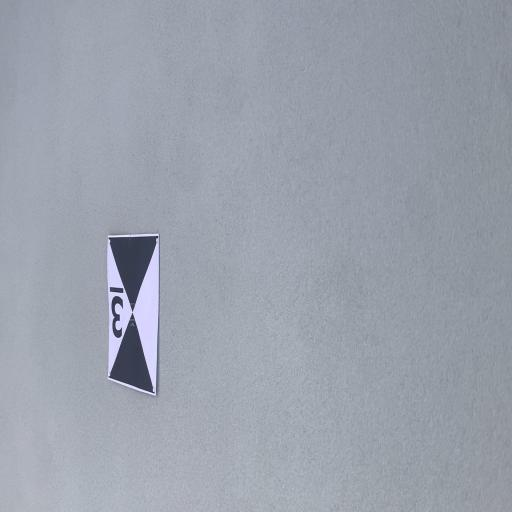target3: (106, 234, 160, 401)
